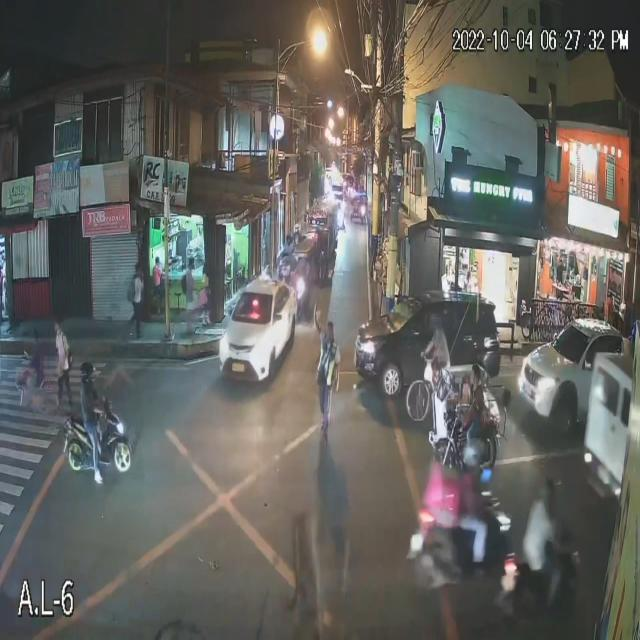Full-Faced: (536, 471, 566, 516), (455, 439, 490, 477), (78, 350, 102, 397)
